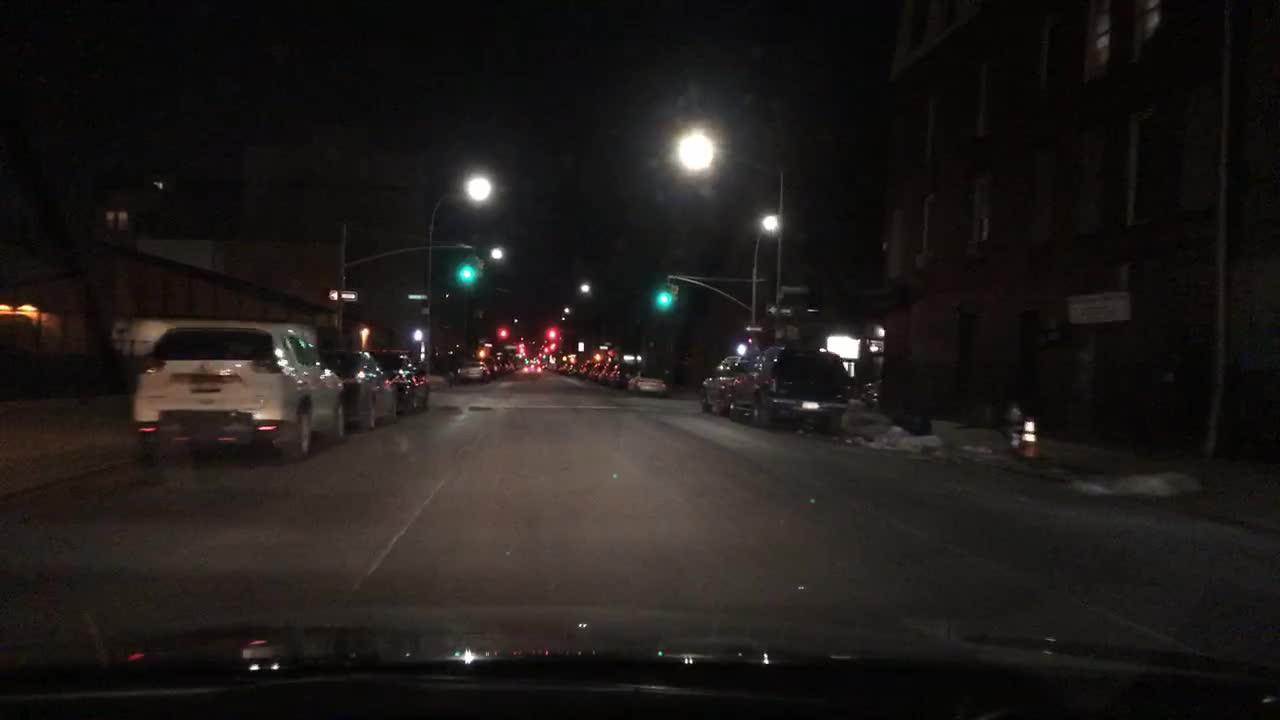car: (129, 325, 346, 464), (731, 346, 851, 435), (317, 345, 400, 432), (362, 346, 432, 416), (697, 354, 754, 417), (448, 357, 492, 385), (625, 373, 668, 396), (597, 358, 618, 382), (557, 352, 578, 375), (478, 356, 502, 376), (576, 359, 594, 379), (589, 357, 604, 381), (521, 359, 542, 376), (543, 351, 558, 371), (498, 354, 514, 372), (508, 353, 523, 368)
traffic light: (655, 289, 671, 306), (459, 265, 475, 280), (495, 324, 508, 337), (545, 324, 557, 338), (547, 341, 556, 349)
traffic sign: (328, 288, 357, 301), (742, 322, 761, 333), (406, 292, 428, 300)
